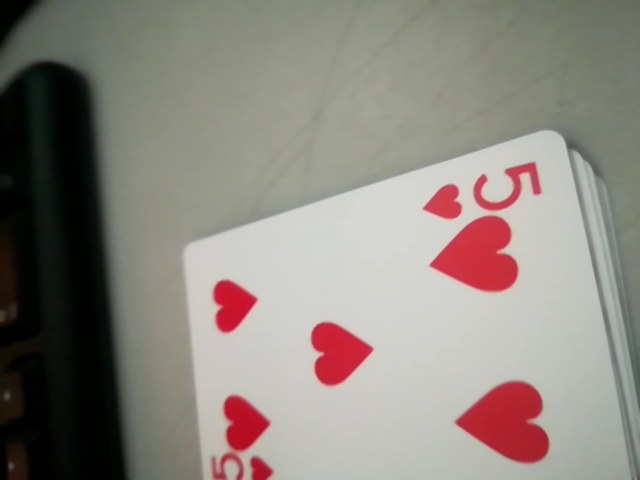hx 5: (420, 157, 555, 222)
